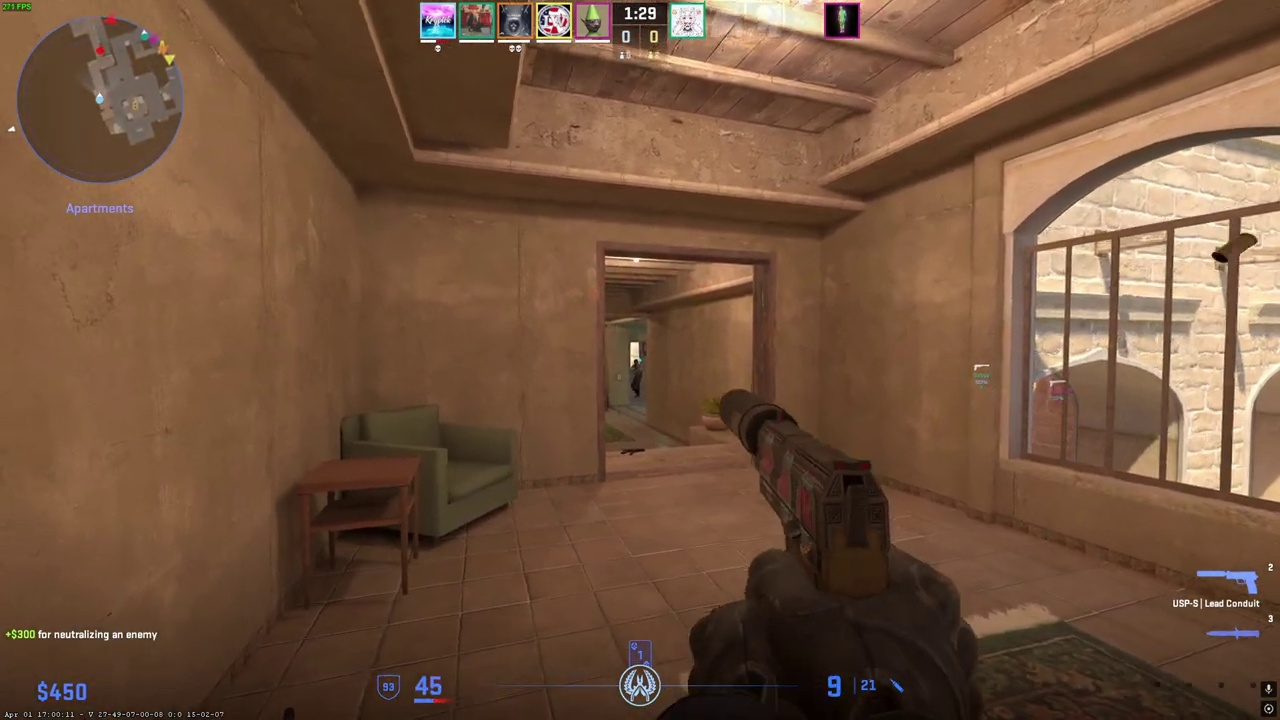Terrorist: (628, 357, 644, 397)
